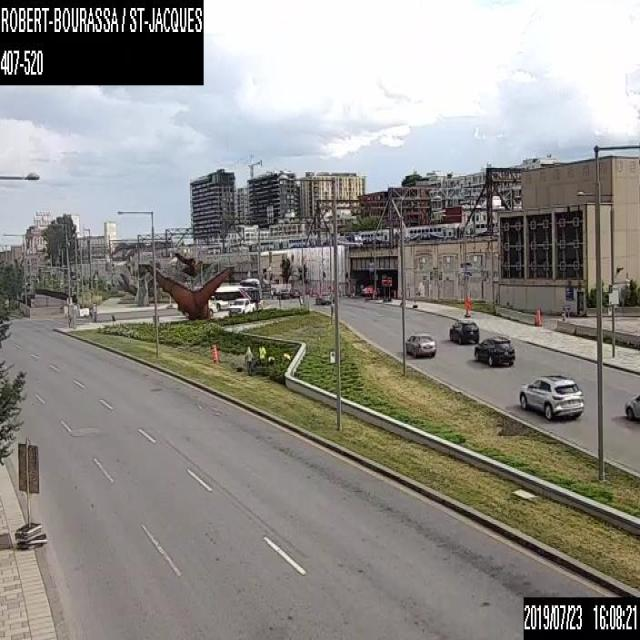bus: (194, 285, 261, 310)
construction: (209, 342, 217, 362), (464, 296, 471, 316), (534, 306, 541, 326)
pedestrian: (244, 341, 252, 372), (258, 343, 266, 361)
vehicle: (516, 371, 586, 418), (474, 335, 515, 365), (405, 331, 437, 357), (448, 320, 478, 342), (226, 297, 255, 315), (623, 391, 639, 418), (315, 290, 333, 303)
